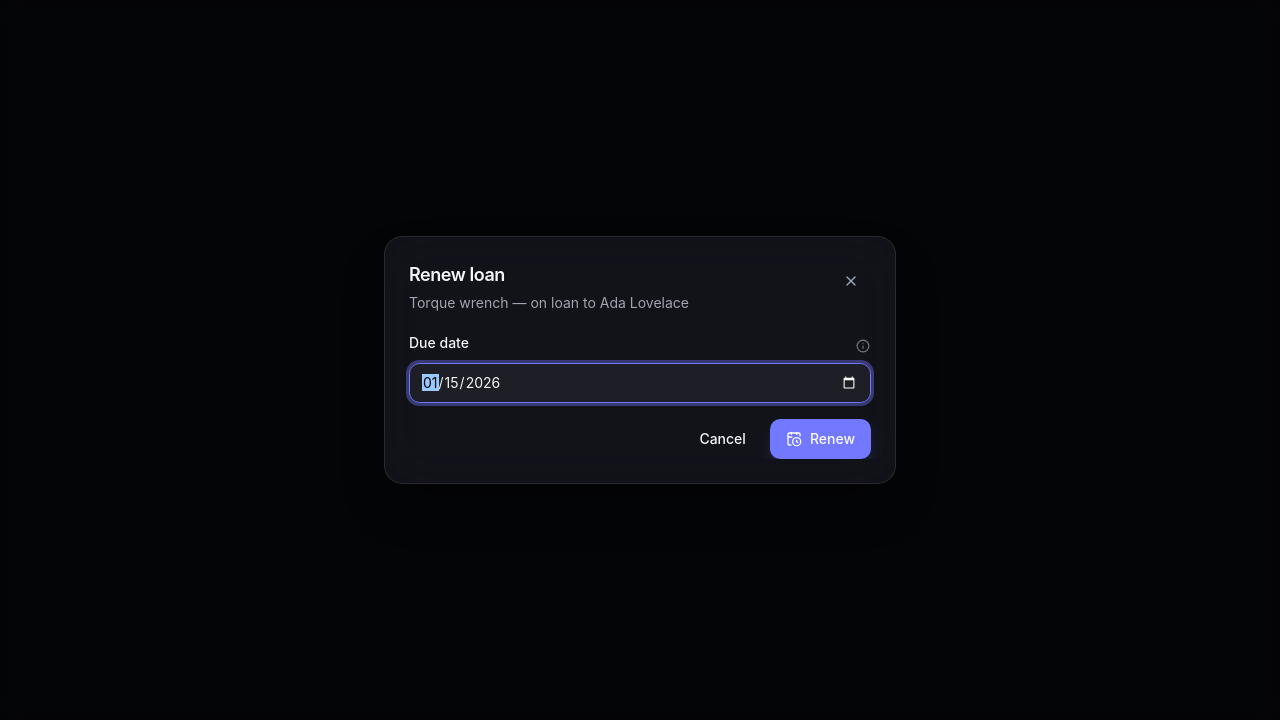
Test: RenewLoanDialog › surfaces a failed renew in an alert and stays open
Click the button "Renew": (820, 439) [770,419,871,459]
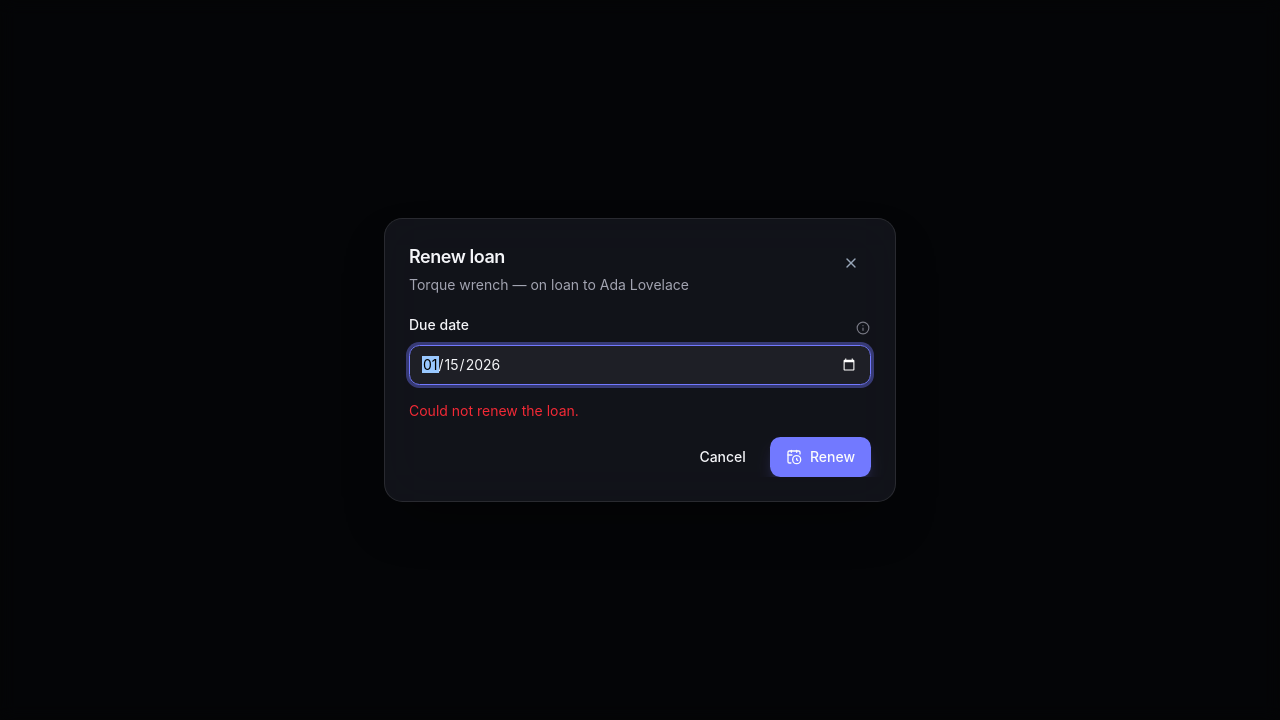
expect the message reads "Could not renew the loan.": met, box [409,402,579,419]
